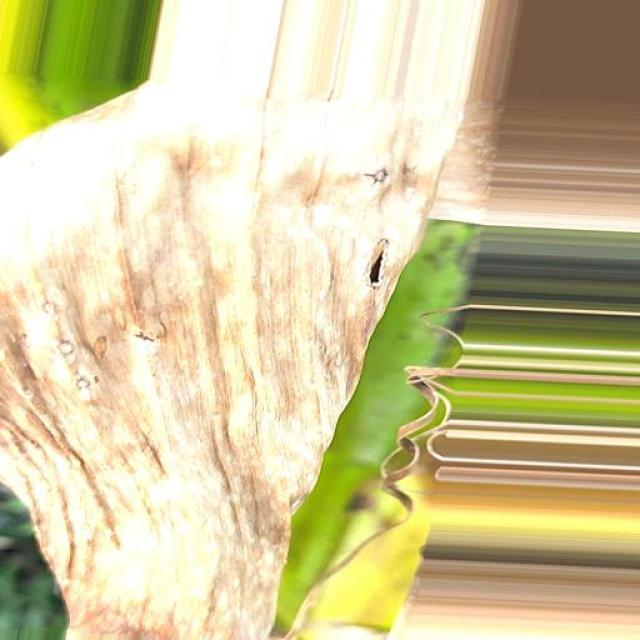Bract_mosaic_virus: (0, 44, 423, 640)
